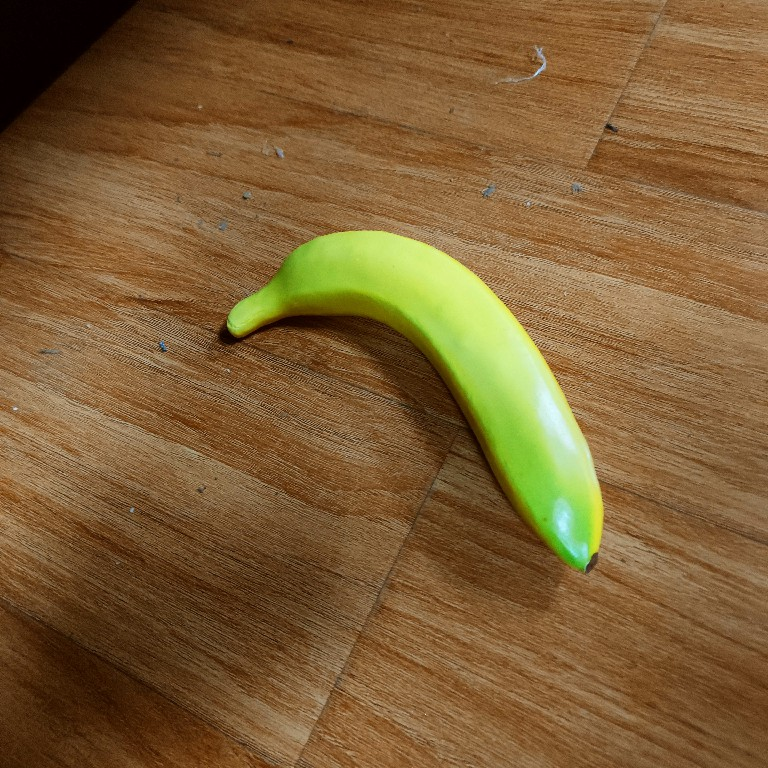fruit_banana: (221, 226, 617, 587)
